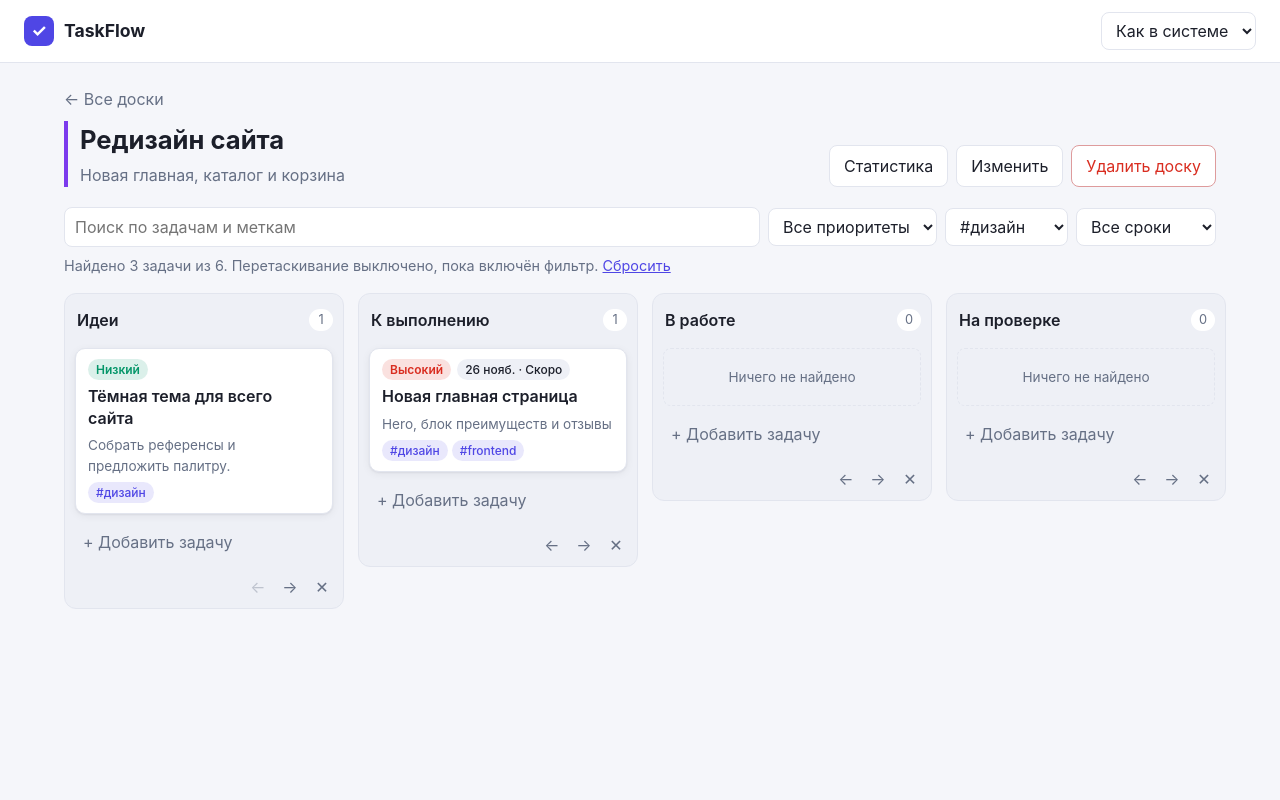
Test: поиск и фильтры › ищет задачи и фильтрует по метке, состояние хранится в адресе
Expected: the message named "Результаты фильтра" shows "Найдено 3 задачи из 6", [64,255,671,277]
Click the button "Сбросить" at (637, 266), box [602,255,671,277]
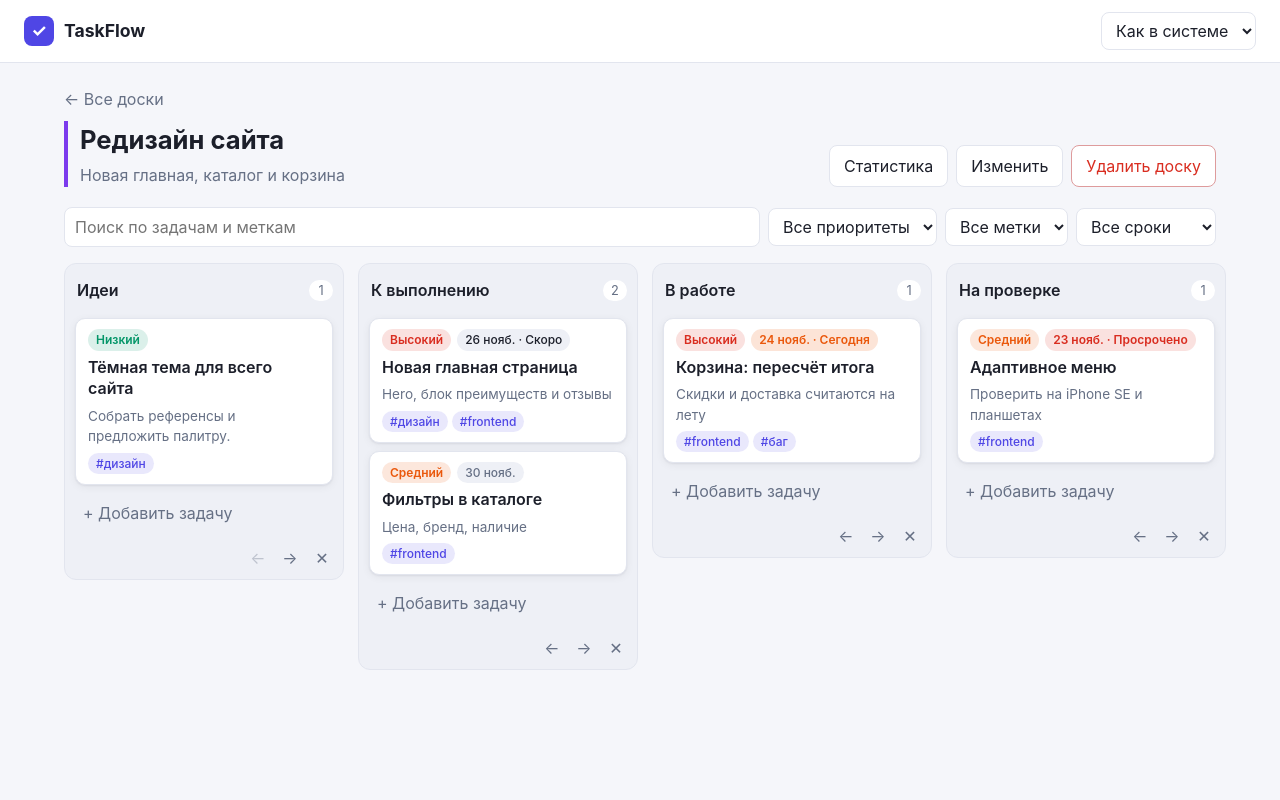
Type "корзин" into the search field named "Поиск задач" at (412, 227), box [64,207,760,247]
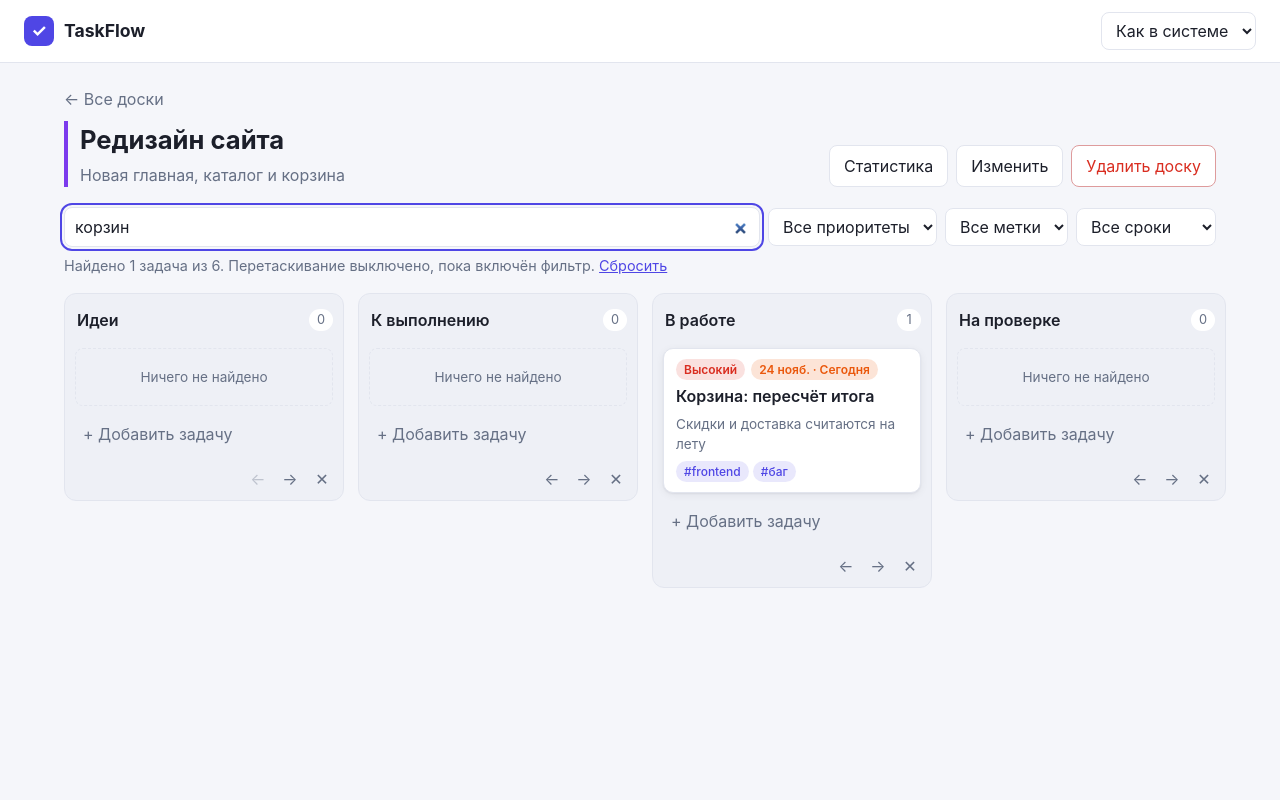
Expected: the button with aria-label "Задача «Корзина: пересчёт итога»" is shown, [663,348,921,493]
Expected: the message named "Результаты фильтра" shows "Найдено 1 задача из 6", [64,255,667,277]
